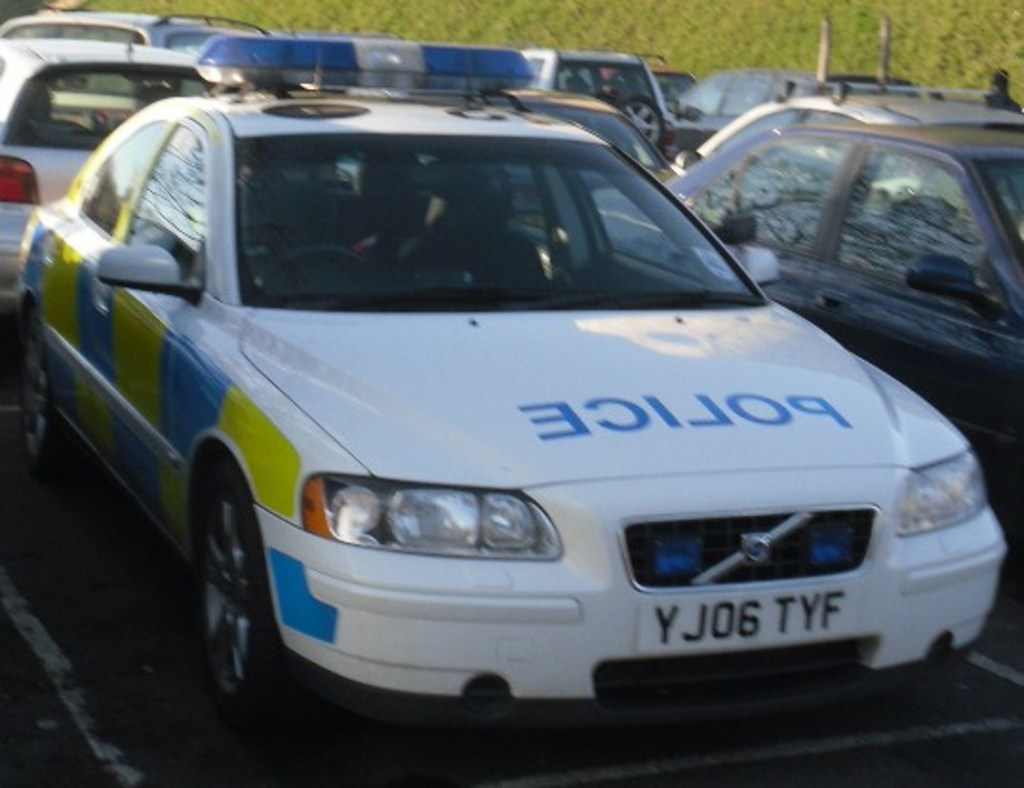license plate: (640, 602, 866, 653)
